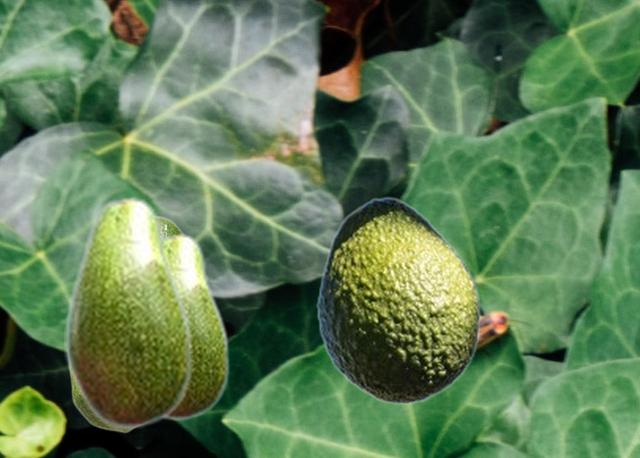avocado: (315, 196, 480, 404), (64, 194, 192, 430), (69, 215, 182, 432), (164, 231, 229, 421)
